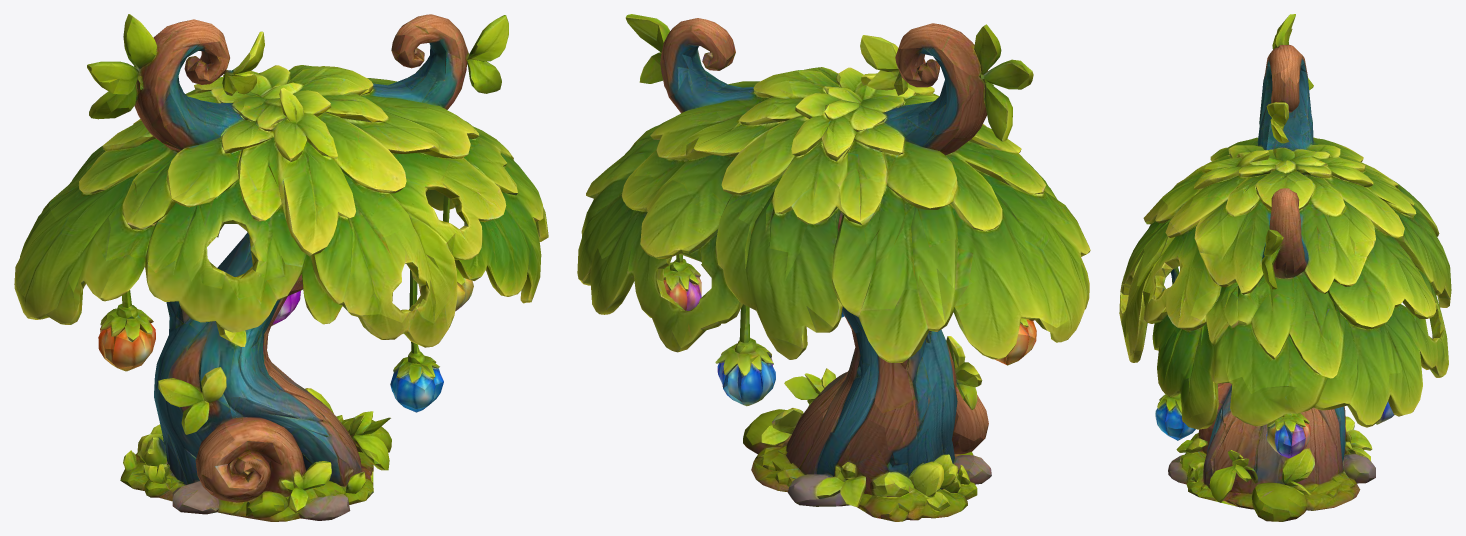
Rendered from lantern-leaf-tree.glb.
The picture shows the model from 3 angles, left to right: view 1: azimuth 30°, elevation 25°; view 2: azimuth 150°, elevation 25°; view 3: azimuth 270°, elevation 25°; orthographic projection. The views are drawn at different scales.
Parts seen in each view (by area): view 1: output_unwrapped; view 2: output_unwrapped; view 3: output_unwrapped.
Boxes of the visible parts, x1,y1,x2,y2 form: output_unwrapped: [14, 14, 548, 521]; output_unwrapped: [577, 14, 1090, 521]; output_unwrapped: [1119, 14, 1451, 521].
Bounding box in the file's own units: 1.9 × 1.81 × 1.34.
1 material, 1 textured.
